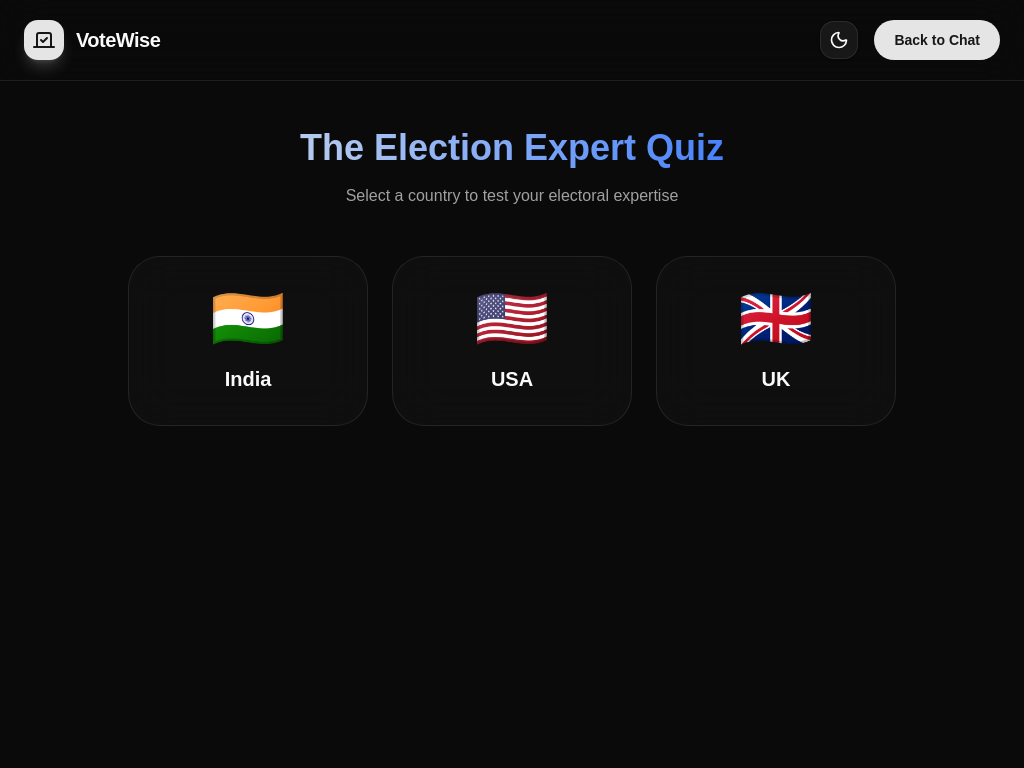
Test: QuizPage › can navigate through questions
What coordinates should you click on to do the following:
click the button "🇮🇳 India"
I would click on:
 (248, 341)
Its box is [128,256,368,426].
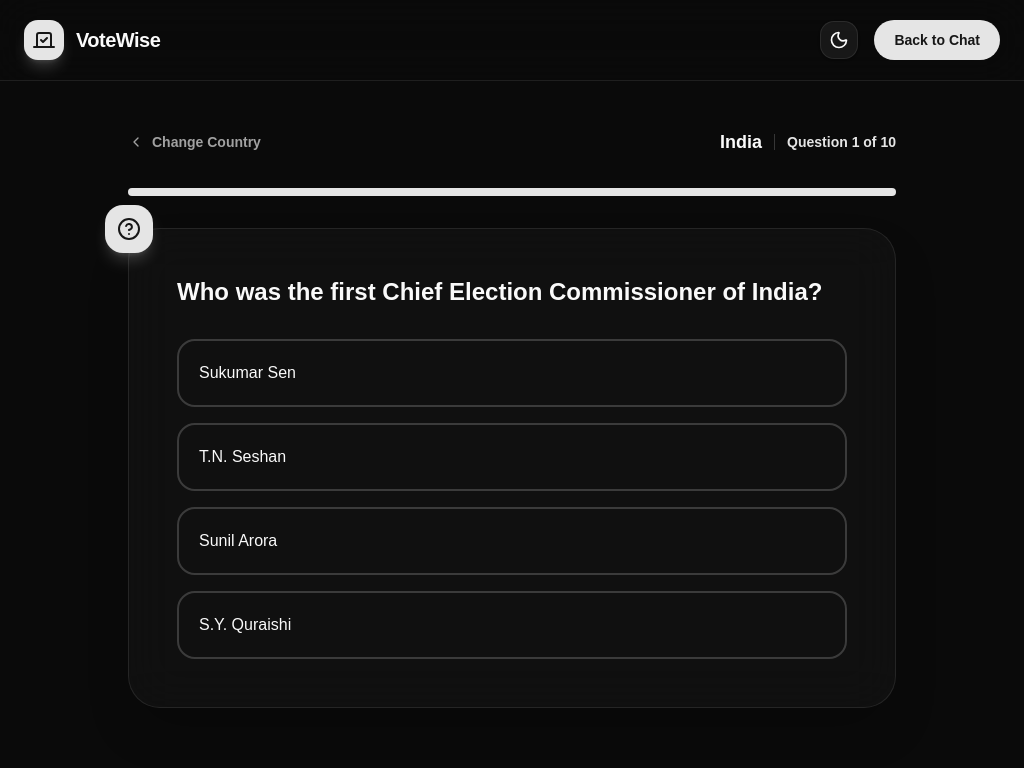
// Question 1
What coordinates should you click on to do the following:
click the radio button "Sukumar Sen"
I would click on:
 (247, 372)
Its box is [177,339,847,407].
(page scrolled)
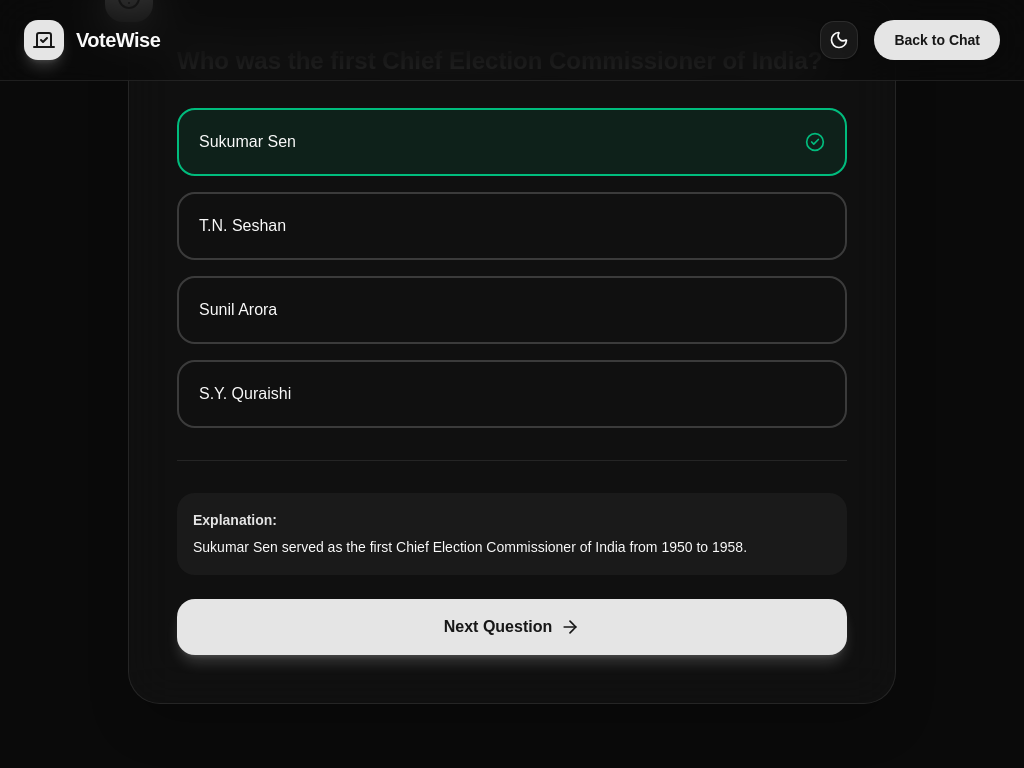
What coordinates should you click on to do the following:
click the button "Next Question"
I would click on:
 (512, 626)
Its box is [177,598,847,654].
(page scrolled)
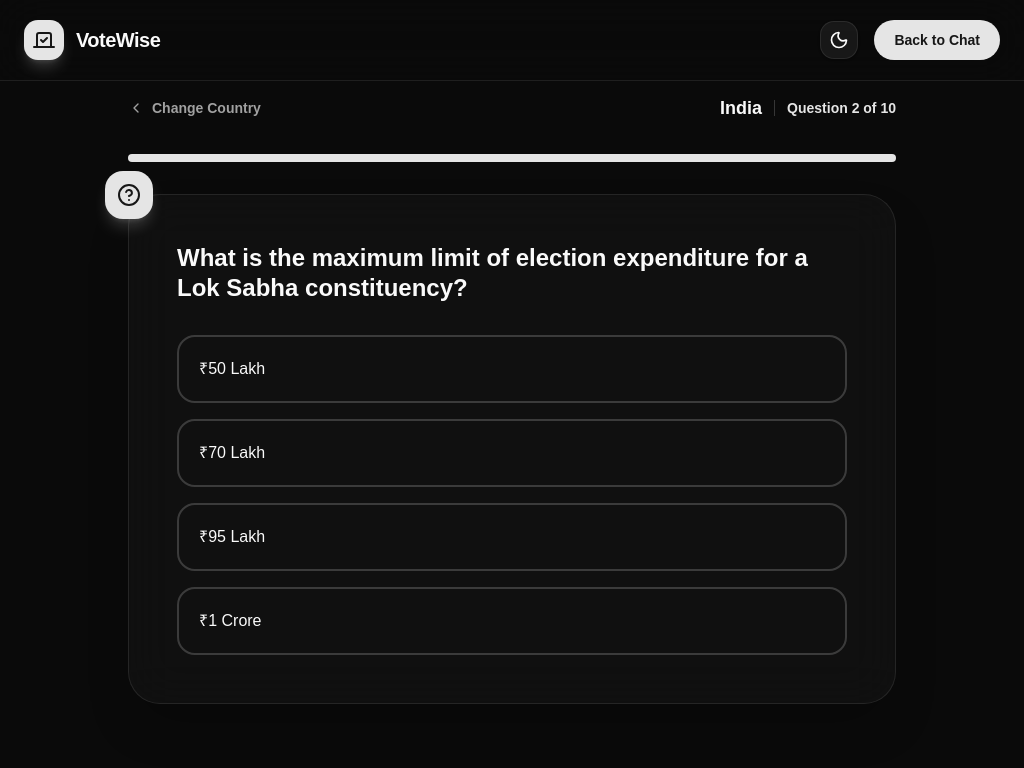
Check: the text "Question 2 of 10" is shown, box [787,98,896,118]
Check: the heading "What is the maximum limit of election expenditure" is shown, box [177,244,808,301]
